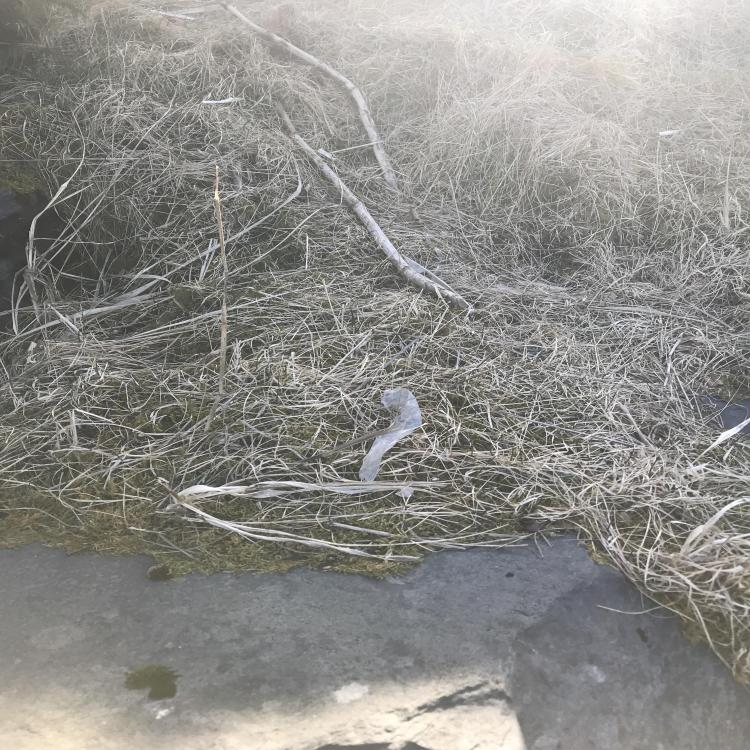Cigarette: (658, 130, 679, 136)
Plastic film: (358, 386, 422, 482)
